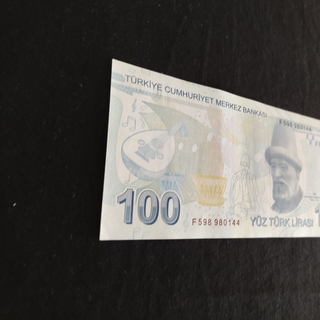100TLBack: (99, 57, 320, 242)
